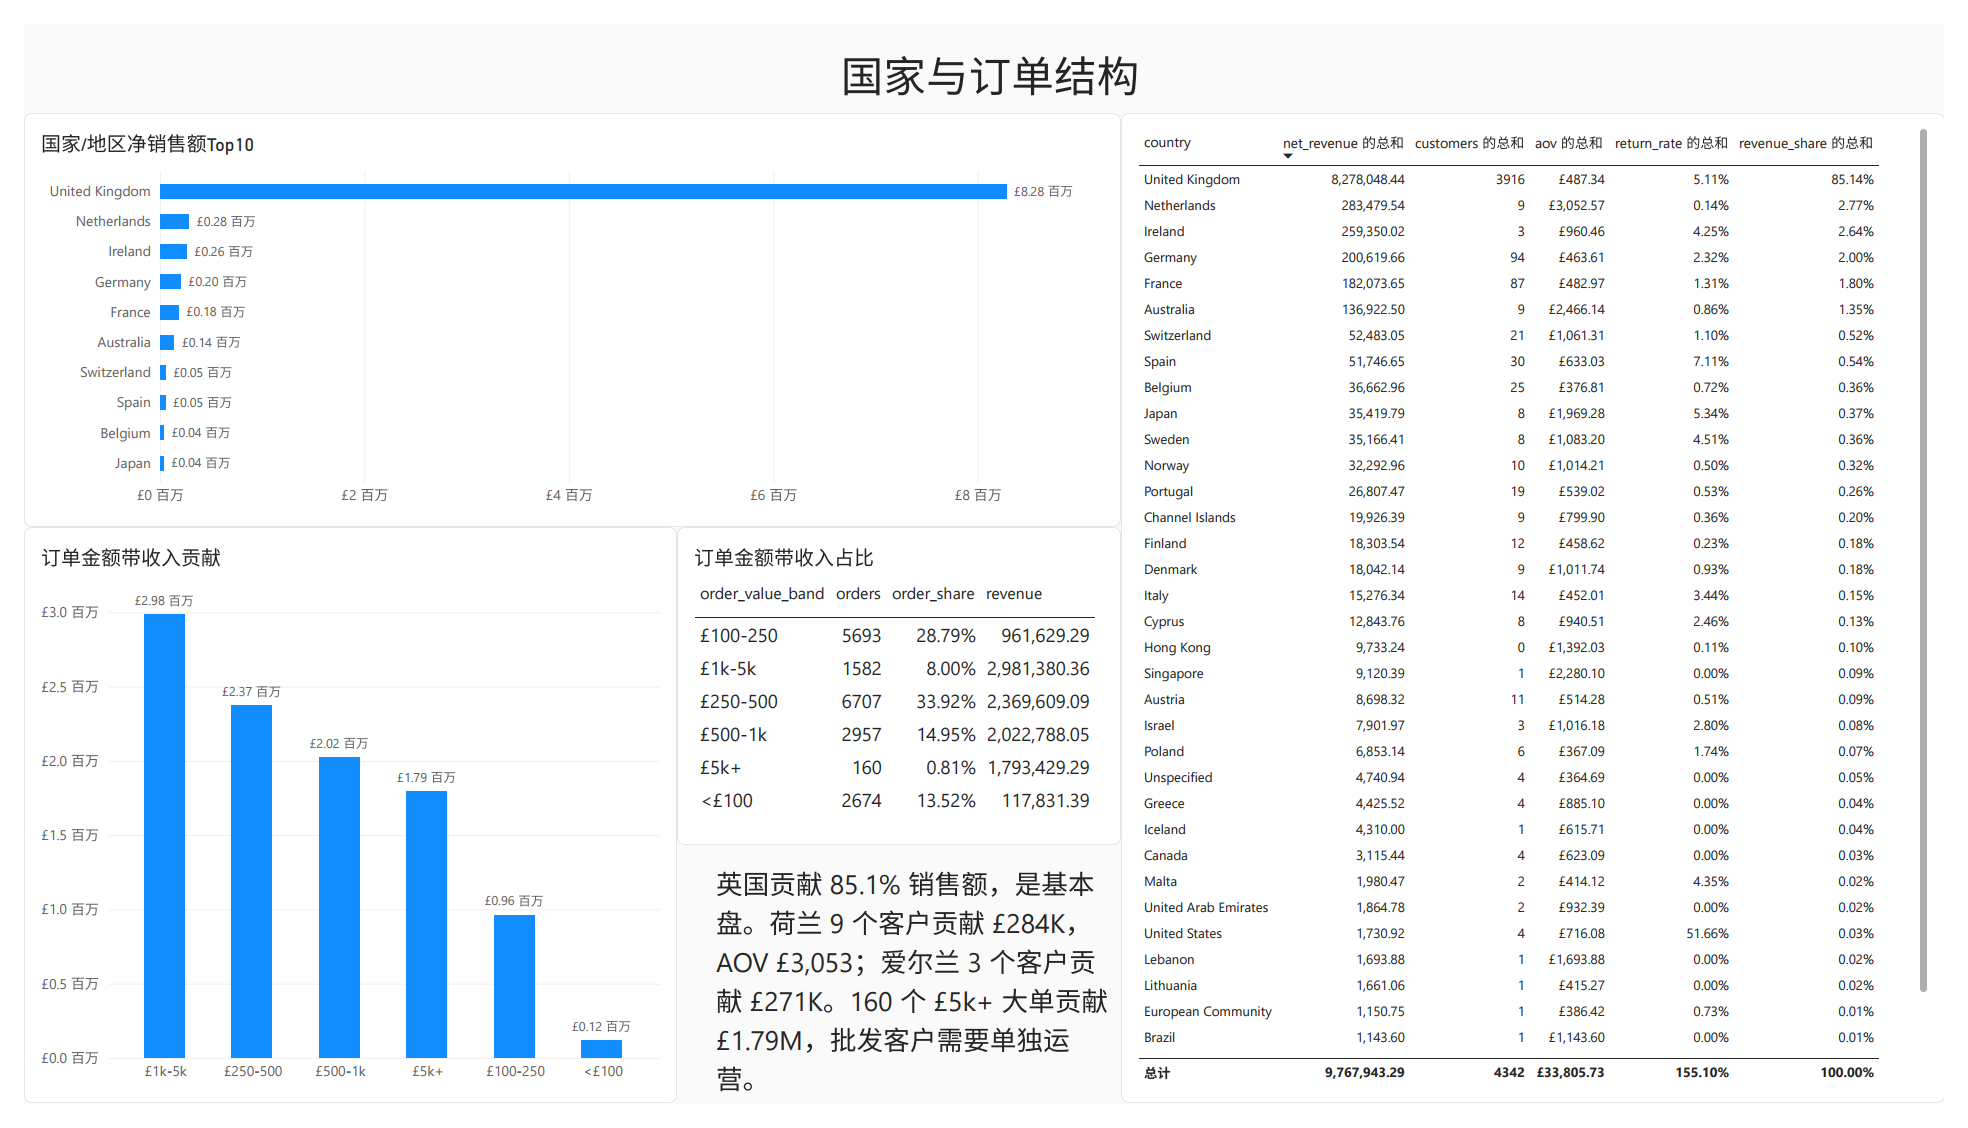

What the dashboard file says about the page in this screenshot:
{"tool":"powerbi","page":{"name":"第 4 页","canvas":[1920,1080],"ordinal":3},"visuals":[{"type":"textbox","box":[10.5,0,1910.5,89.5],"z":0},{"type":"clusteredBarChart","title":"国家/地区净销售额Top10","fields":{"Category":["国家.country"],"Y":["Sum(国家.net_revenue)"]},"box":[0,89.5,1097.4,413.2],"z":1},{"type":"tableEx","fields":{"Values":["国家.country","Sum(国家.net_revenue)","Sum(国家.customers)","Sum(国家.aov)","Sum(国家.return_rate)","Sum(国家.revenue_share)"]},"box":[1097.4,89.5,823.7,989.5],"z":2},{"type":"clusteredColumnChart","title":"订单金额带收入贡献","fields":{"Category":["金额带.order_value_band"],"Y":["Sum(金额带.revenue)"]},"box":[0,502.6,652.6,576.3],"z":3},{"type":"tableEx","title":"订单金额带收入占比","fields":{"Values":["金额带.order_value_band","金额带.orders","金额带.order_share","金额带.revenue"]},"box":[652.6,502.6,444.7,318.4],"z":4},{"type":"textbox","box":[692.1,839.5,405.3,239.5],"z":5}]}

Visuals, with their boxes in screenshot pixels (x1, y1, x2, y2), scaled from the page's 1920x1080 canvas onto the 1968x1128 screenshot:
textbox: 11 0 1967 93
"国家/地区净销售额Top10" clusteredBarChart: 0 93 1125 525
tableEx - 国家.country x Sum(国家.net_revenue): 1125 93 1967 1127
"订单金额带收入贡献" clusteredColumnChart: 0 525 669 1127
"订单金额带收入占比" tableEx: 669 525 1125 857
textbox: 709 877 1125 1127
